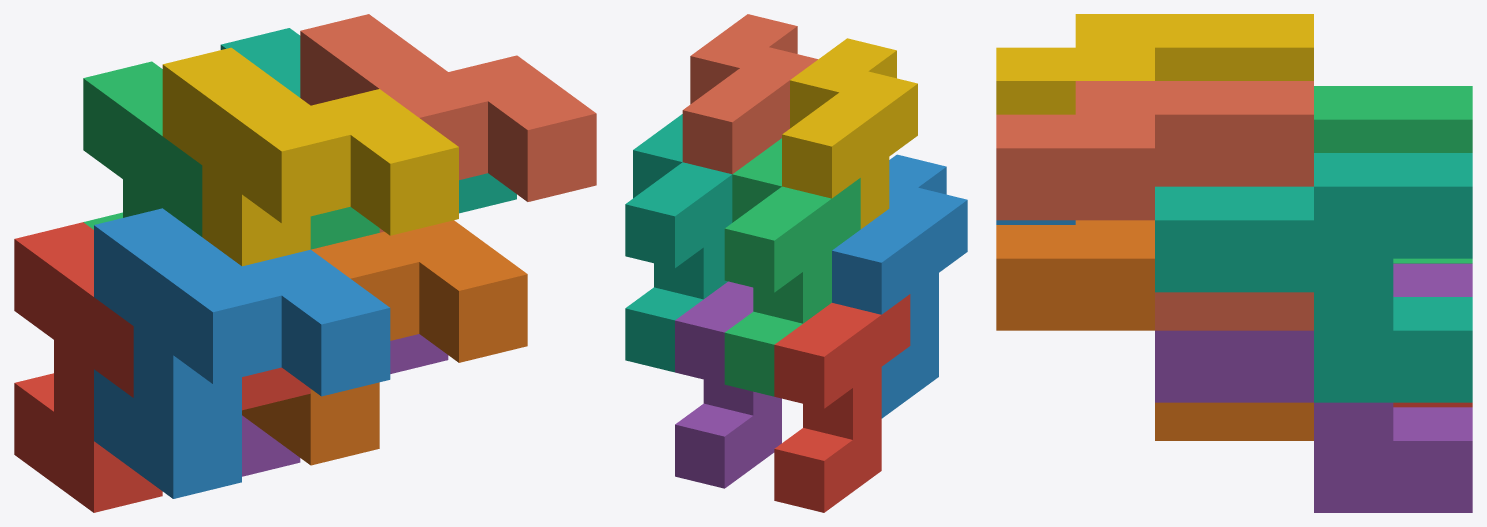
Rendered from tiling.obj.
The picture shows the model from 3 angles, left to right: view 1: azimuth 30°, elevation 25°; view 2: azimuth 150°, elevation 25°; view 3: azimuth 270°, elevation 25°; orthographic projection. The views are drawn at different scales.
Parts seen in each view (by area): view 1: copy_1_domain_2, copy_1_domain_4, copy_1_domain_8, copy_1_domain_6, copy_1_domain_1, copy_1_domain_3, copy_1_domain_7, copy_1_domain_5; view 2: copy_1_domain_1, copy_1_domain_3, copy_1_domain_2, copy_1_domain_7, copy_1_domain_4, copy_1_domain_8, copy_1_domain_5; view 3: copy_1_domain_7, copy_1_domain_8, copy_1_domain_5, copy_1_domain_6, copy_1_domain_4, copy_1_domain_3.
Part boxes in pixels (box(x1,y1,x2,y2)): copy_1_domain_2: box(94, 208, 390, 498); copy_1_domain_4: box(162, 47, 458, 266); copy_1_domain_8: box(300, 14, 596, 232); copy_1_domain_6: box(242, 220, 527, 465); copy_1_domain_1: box(14, 222, 310, 512); copy_1_domain_3: box(83, 61, 379, 249); copy_1_domain_7: box(220, 28, 516, 213); copy_1_domain_5: box(242, 334, 448, 476); copy_1_domain_1: box(774, 294, 910, 512); copy_1_domain_3: box(724, 138, 860, 396); copy_1_domain_2: box(832, 154, 967, 418); copy_1_domain_7: box(625, 114, 732, 372); copy_1_domain_4: box(782, 38, 917, 228); copy_1_domain_8: box(682, 14, 817, 174); copy_1_domain_5: box(675, 281, 781, 488); copy_1_domain_7: box(1155, 153, 1472, 402); copy_1_domain_8: box(996, 81, 1313, 330); copy_1_domain_5: box(1155, 263, 1472, 512); copy_1_domain_6: box(996, 220, 1313, 440); copy_1_domain_4: box(996, 14, 1313, 114); copy_1_domain_3: box(1314, 86, 1472, 263).
Bounding box in the file's own units: 5 × 6 × 6.
